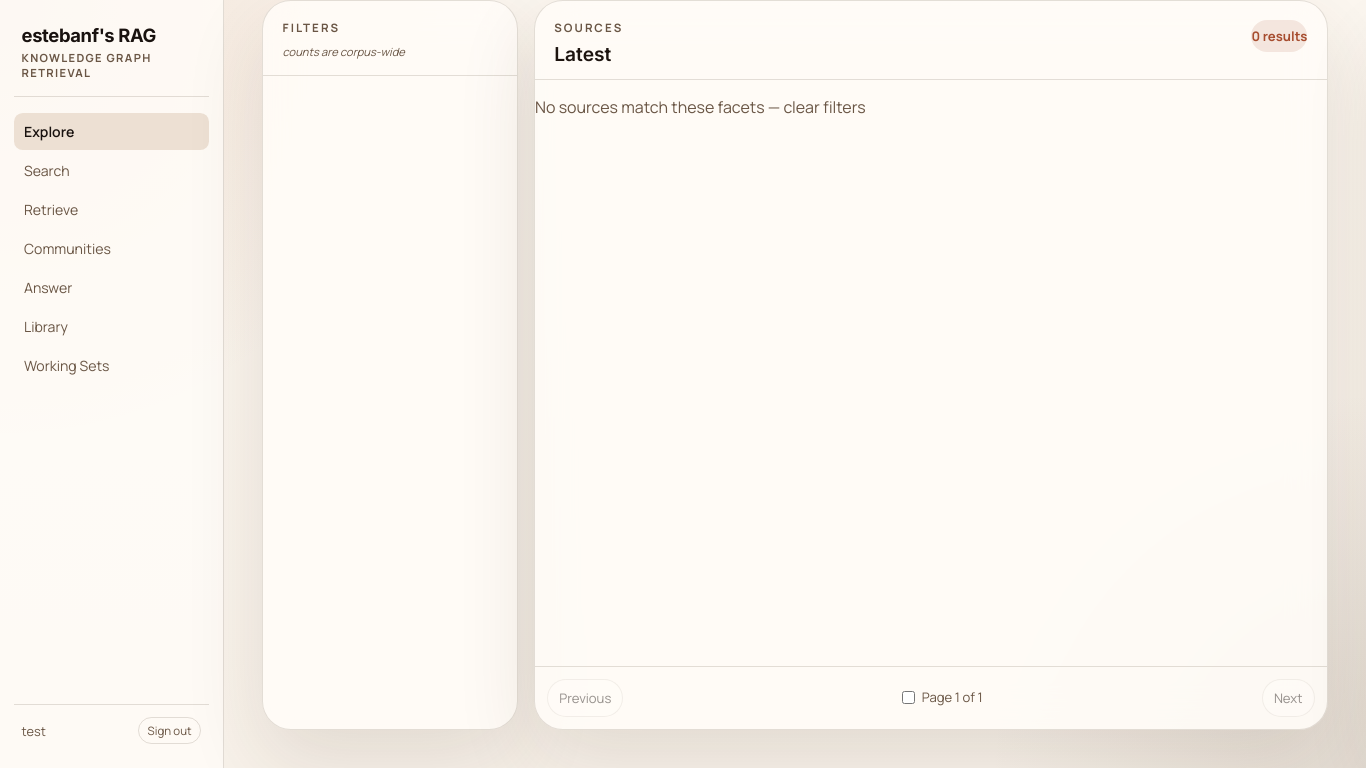
Test: App › submits search with the enter key
Click the button "Search" at x=112, y=170, box [14,152,209,189]
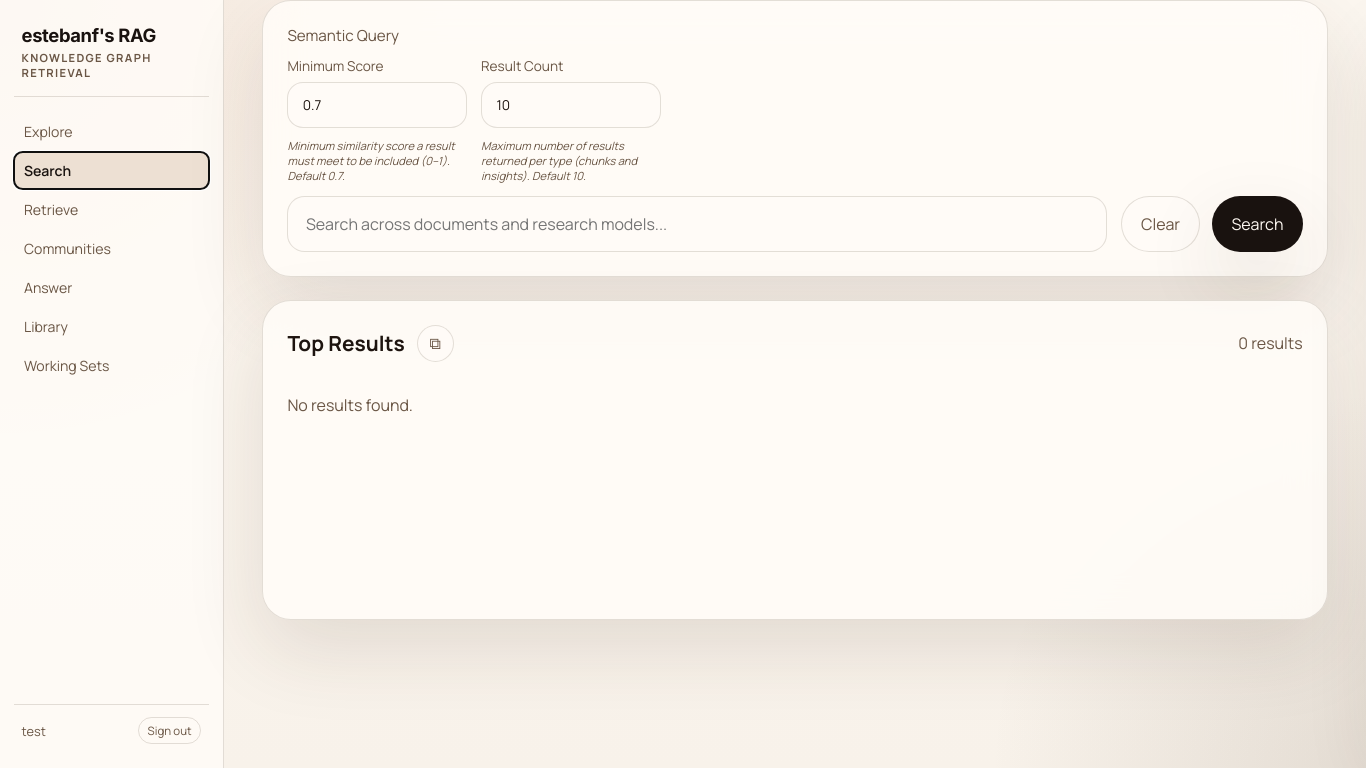
Type "economics of agents" into the field labelled "Semantic Query" at x=697, y=224, box [287,196,1107,252]
Then press Enter
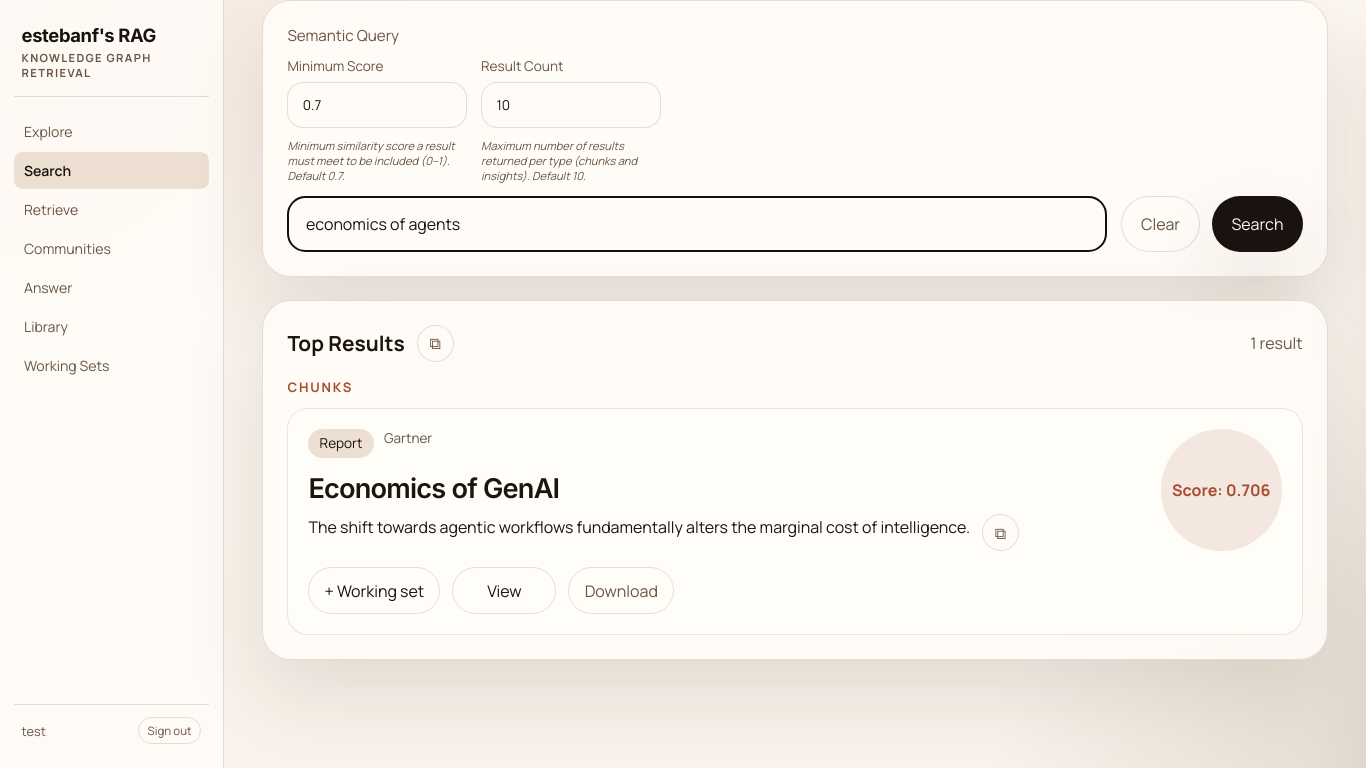
Expected: the heading "Economics of GenAI" is shown, [308,472,559,505]
